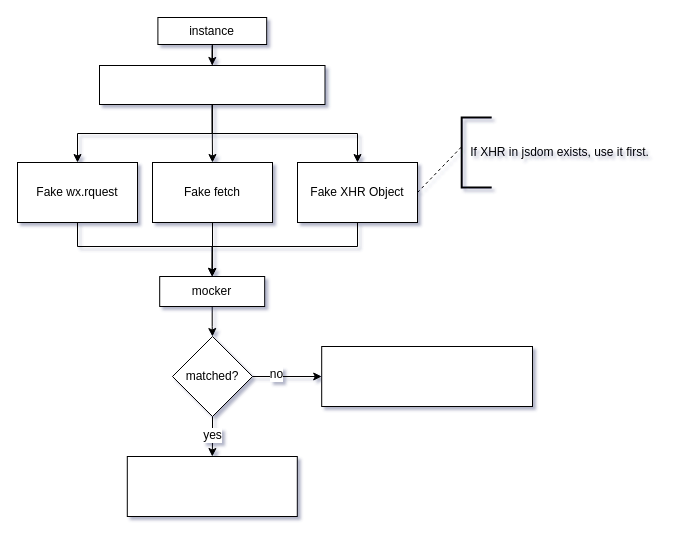
This 677x540 diagram has some shape labels left out. The centre of each missing label's shape, as x and y in pixels:
"do mock response" belongs at pixel 211 486.
"fallback to nodejs native https/http" belongs at pixel 426 376.
"setupForUnitTest" belongs at pixel 211 84.
